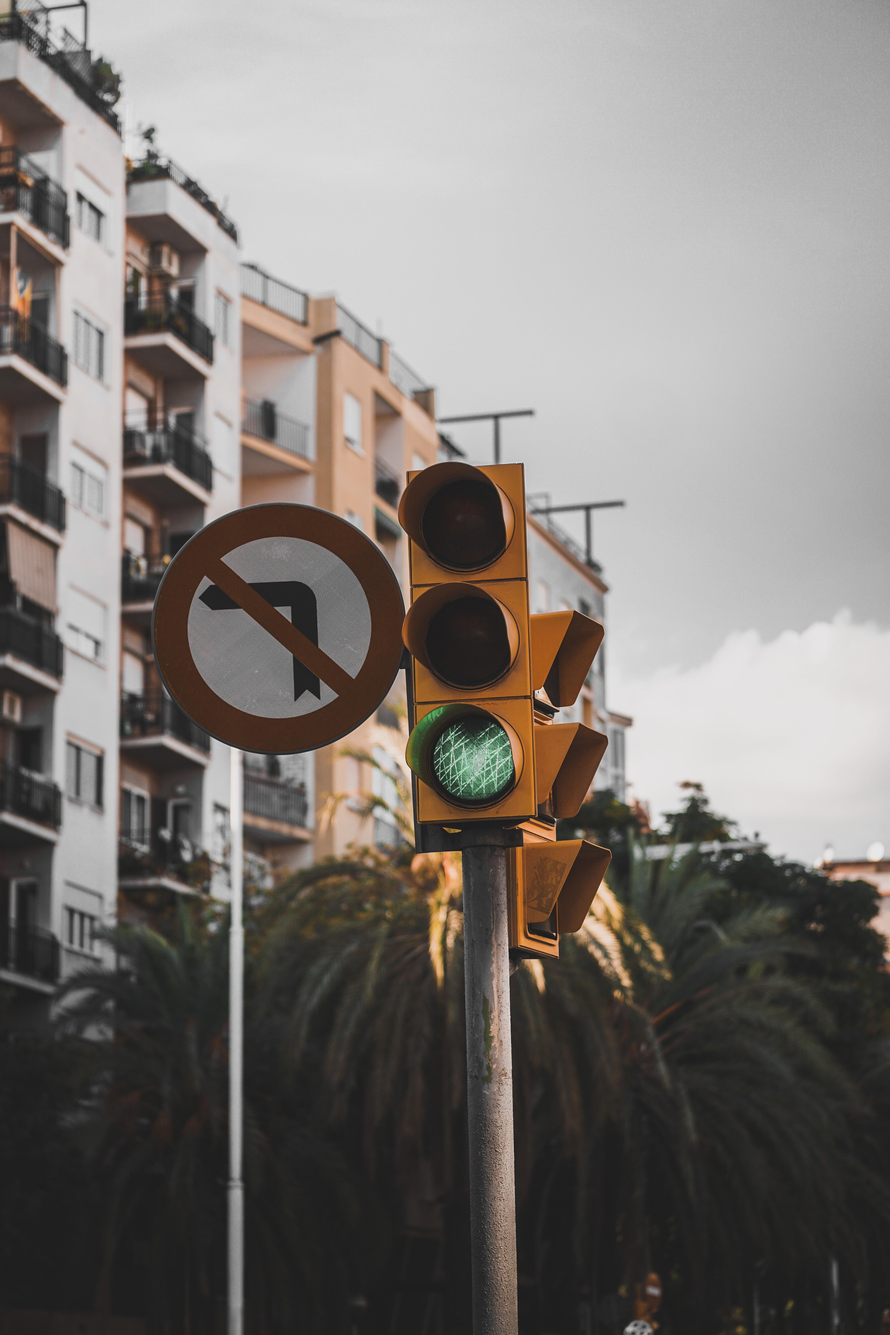Traffic light green: (407, 447, 534, 828)
